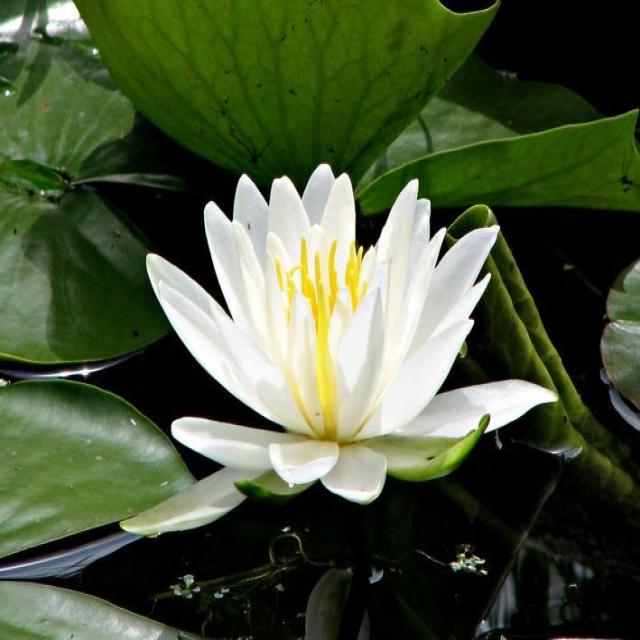water-lily: (127, 131, 566, 522)
